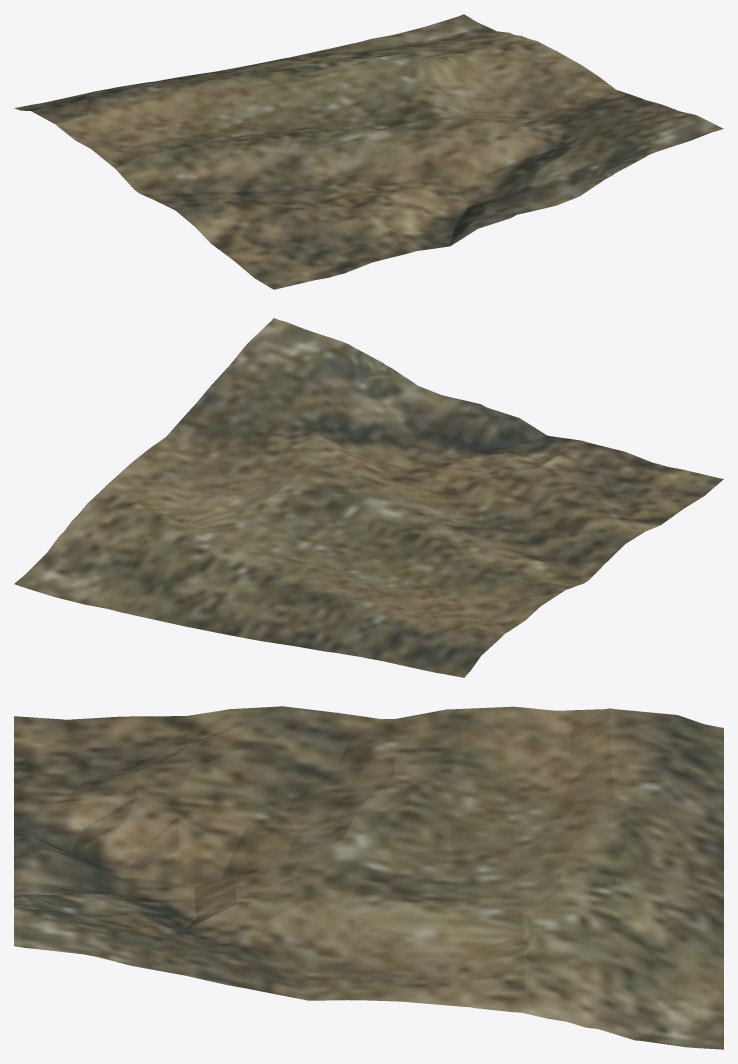
The picture shows the model from 3 angles, top to bottom: view 1: azimuth 30°, elevation 25°; view 2: azimuth 150°, elevation 25°; view 3: azimuth 270°, elevation 25°; orthographic projection. The views are drawn at different scales.
Bounding box in the file's own units: 52.22 × 8.78 × 52.22.
Materials: 2 (2 with a texture image).
